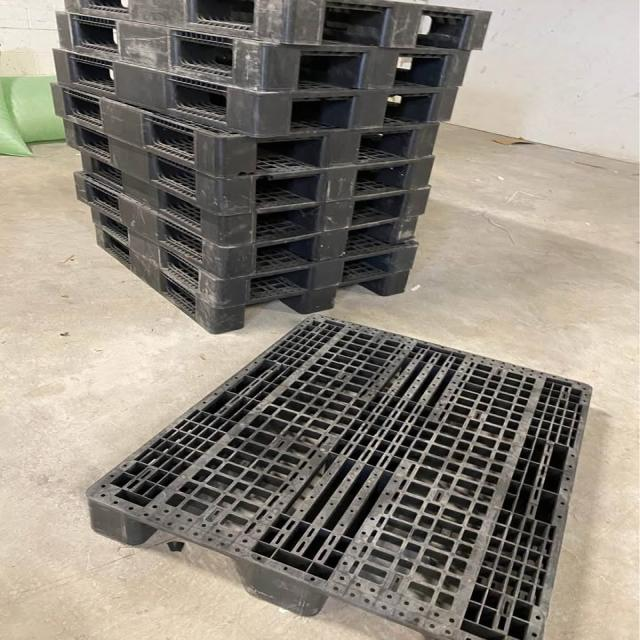non-igps: (81, 311, 598, 640), (56, 110, 444, 227), (44, 77, 445, 190), (67, 163, 424, 287), (46, 4, 474, 103), (72, 139, 440, 254), (46, 43, 462, 143), (81, 193, 423, 314), (91, 221, 415, 338), (55, 0, 496, 58)
